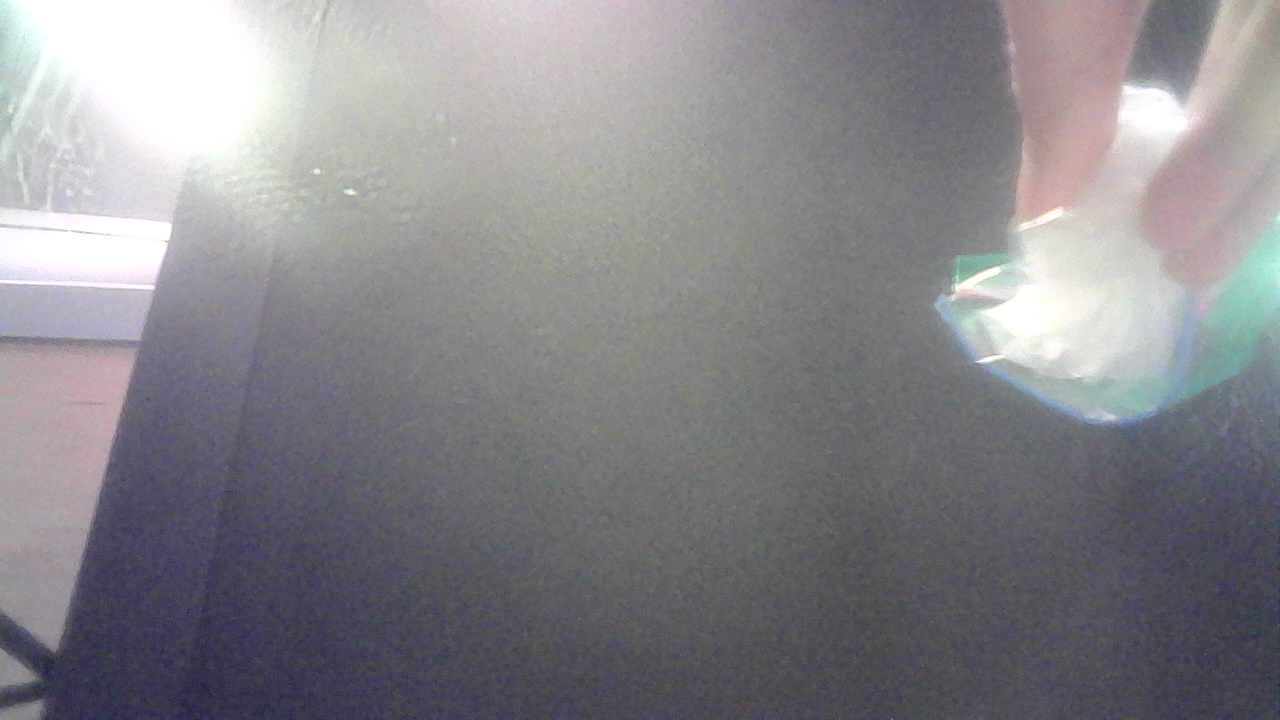Plastic_Recycling: (918, 83, 1280, 440)
